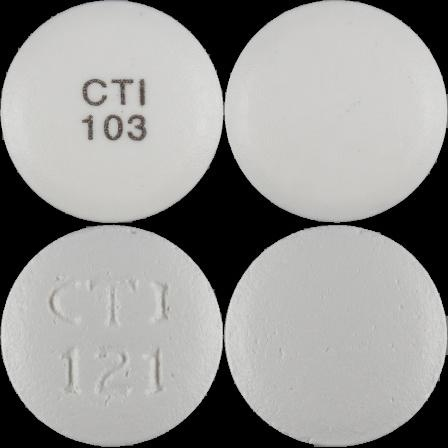43063-694: (0, 0, 224, 224)
